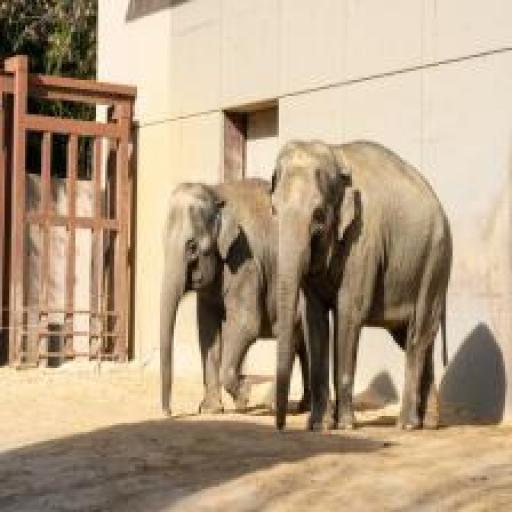Elephant: (270, 126, 456, 436), (142, 174, 270, 431)
